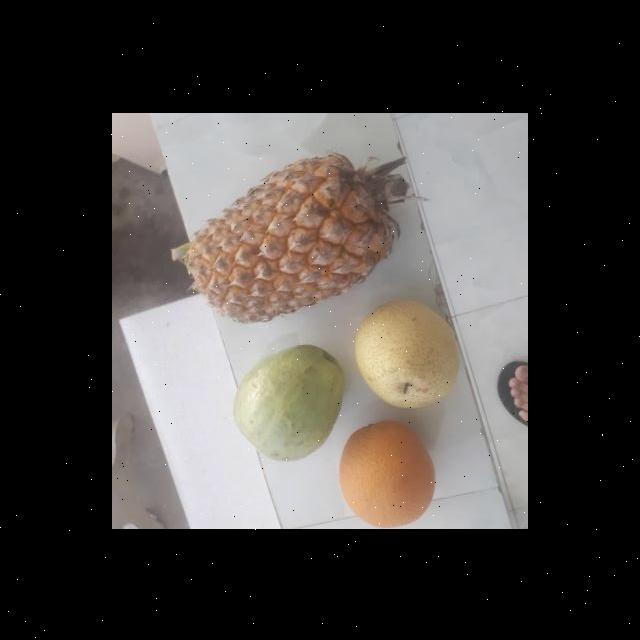guava: (236, 343, 340, 459)
orange: (337, 418, 436, 528)
pear: (356, 292, 459, 408)
pineapple: (190, 157, 397, 313)
